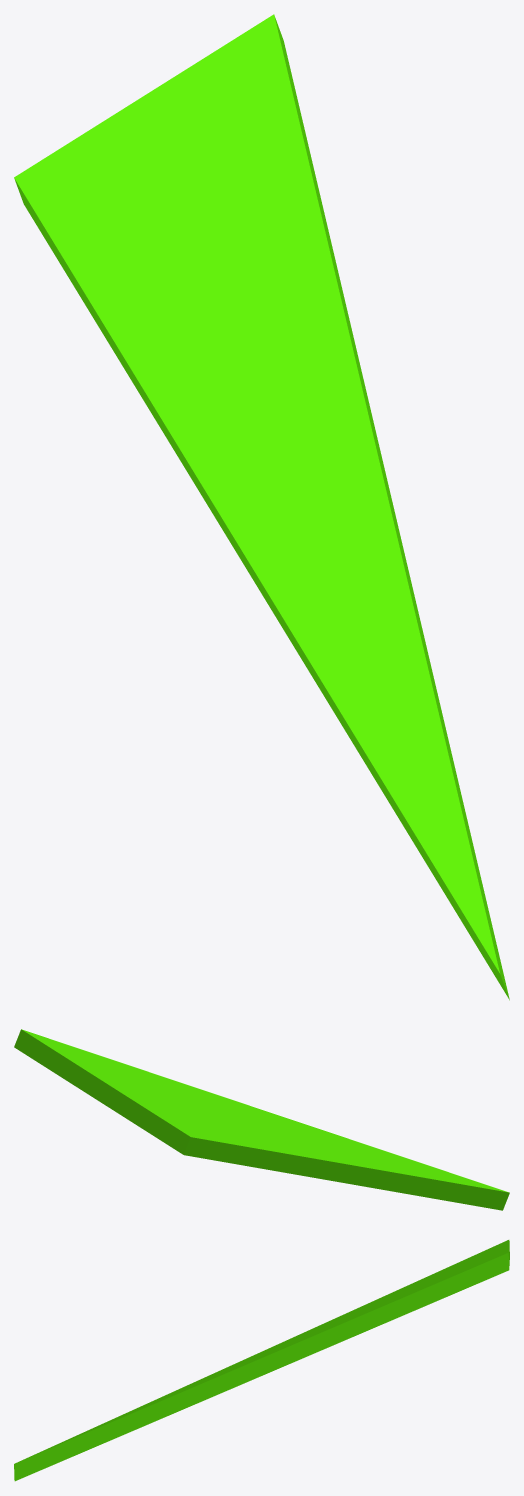
Rendered from nrw_planks_bank_slope192_trans_384_COL_mirror.fbx.
3 renders of one model, top to bottom at view 1: azimuth 30°, elevation 25°; view 2: azimuth 150°, elevation 25°; view 3: azimuth 270°, elevation 25°, orthographic. The views are drawn at different scales.
Parts seen in each view (by area): view 1: nrw_planks_bank_slope192_trans_384_COL_mirror; view 2: nrw_planks_bank_slope192_trans_384_COL_mirror; view 3: nrw_planks_bank_slope192_trans_384_COL_mirror.
Part boxes in pixels (<box>): nrw_planks_bank_slope192_trans_384_COL_mirror: <box>14,14,509,1000</box>; nrw_planks_bank_slope192_trans_384_COL_mirror: <box>14,1029,509,1210</box>; nrw_planks_bank_slope192_trans_384_COL_mirror: <box>14,1240,509,1481</box>.
Bounding box in the file's own units: 123 × 249 × 384.
